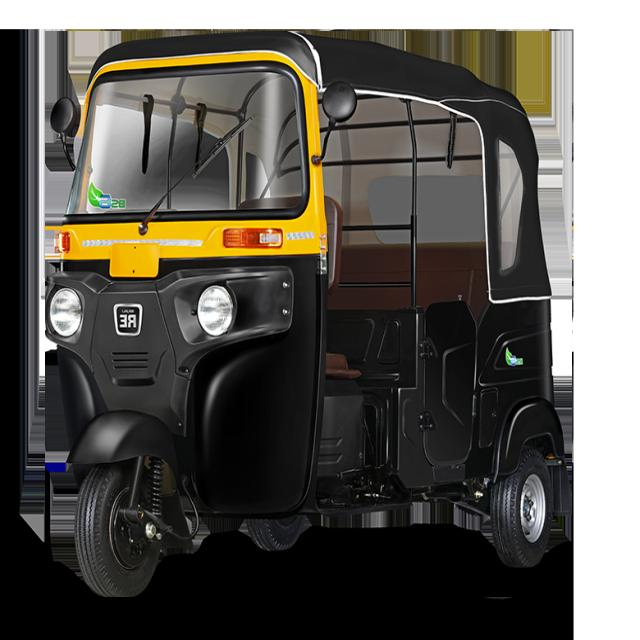autorickshaw: (45, 31, 572, 597)
